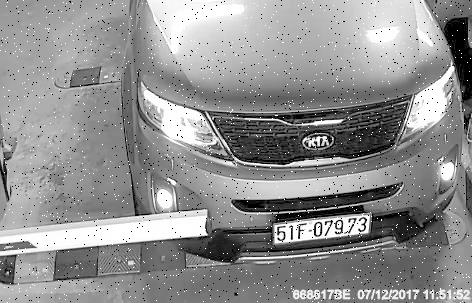License-plate: (267, 210, 383, 255)
